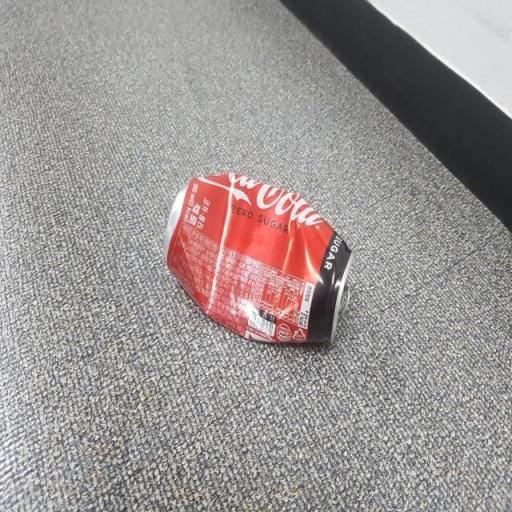metal: (156, 157, 368, 378)
